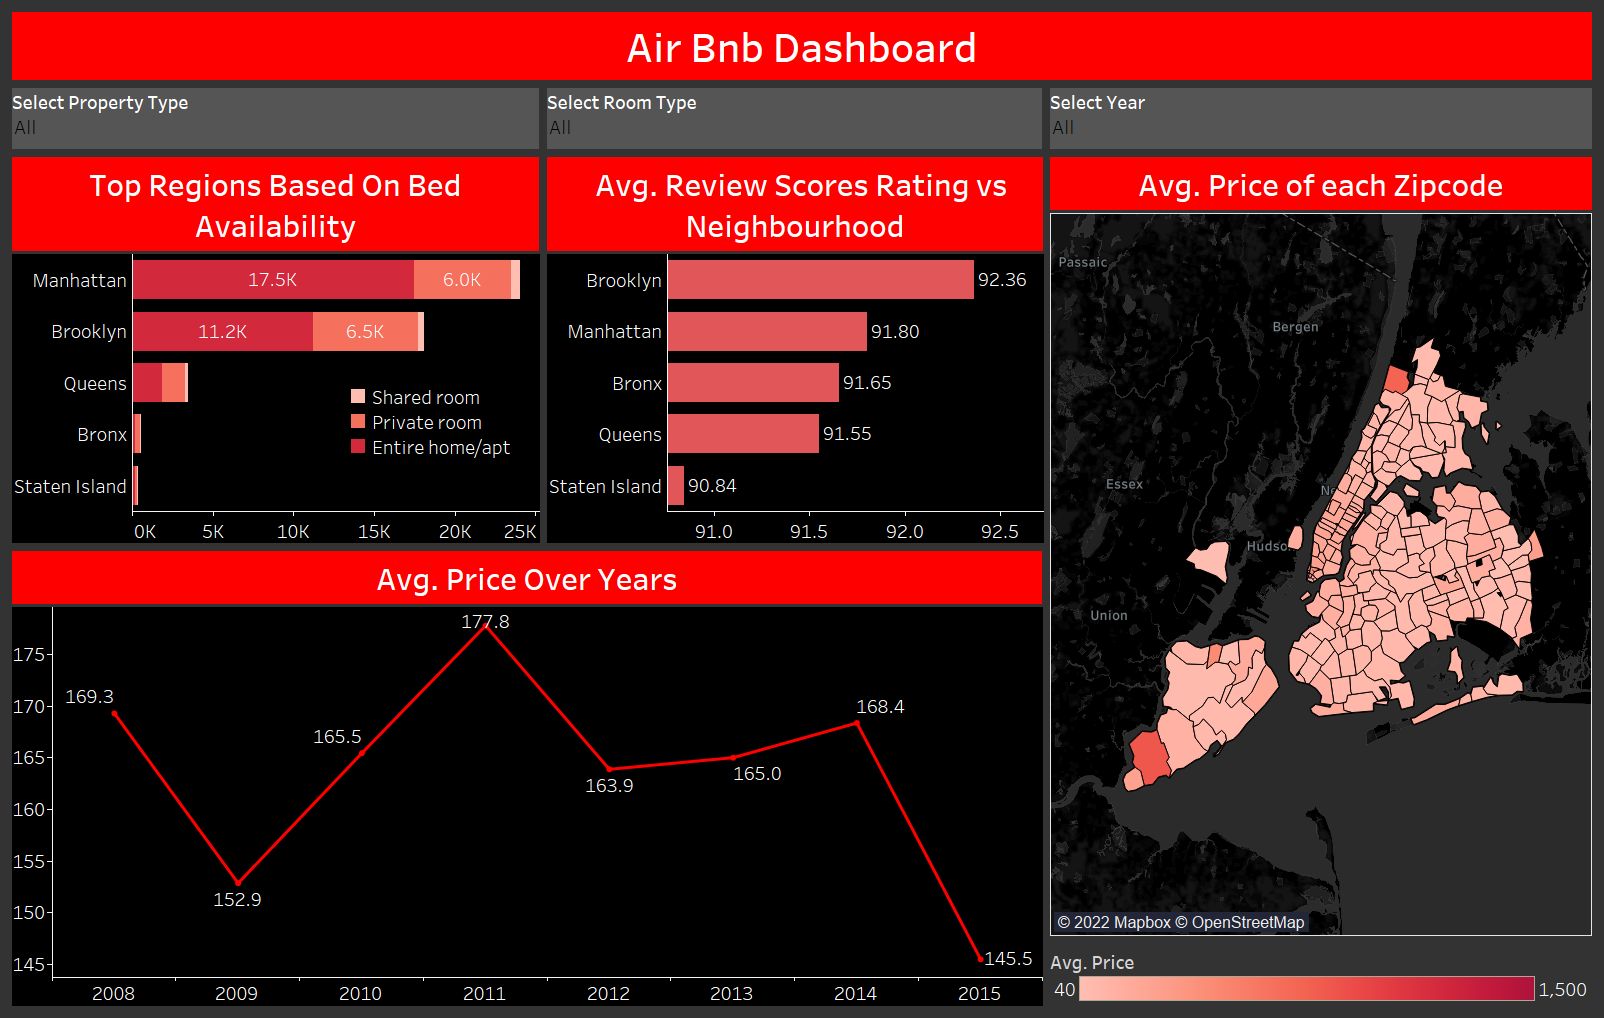

Layout of this report page (visuals, bound fields, positions):
{"tool":"tableau","page":{"name":"Dashboard 1","canvas":[1000,1000],"units":"permille","ordinal":0},"visuals":[{"type":"title","box":[5.1,7.9,989.9,74.7]},{"type":"filter","title":"Top Regions wrt Availability","param":"[federated.10hsduu0iieo7s13iq2zh0z6fuzi].[none:Property Type:nk]","box":[5.1,82.5,333.2,68]},{"type":"filter","title":"Top Rated Regions","param":"[federated.10hsduu0iieo7s13iq2zh0z6fuzi].[none:Room Type:nk]","box":[338.3,82.5,314,68]},{"type":"filter","title":"Top Rated Regions","param":"[federated.10hsduu0iieo7s13iq2zh0z6fuzi].[yr:Host Since:ok]","box":[652.3,82.5,342.6,68]},{"type":"worksheet","title":"Top Regions wrt Availability","mark":"Automatic","rows":["Neighbourhood"],"cols":["Beds"],"box":[5.1,150.5,333.2,386.7]},{"type":"worksheet","title":"Top Rated Regions","mark":"Automatic","rows":["Neighbourhood"],"cols":["Review Scores Rating"],"box":[338.3,150.5,314,386.7]},{"type":"worksheet","title":"Avg Price vs Zipcodes","mark":"Automatic","box":[652.3,150.5,342.6,773.4]},{"type":"legend","title":"Top Regions wrt Availability","param":"[federated.10hsduu0iieo7s13iq2zh0z6fuzi].[none:Room Type:nk]","box":[215.6,377.2,114.4,80.5]},{"type":"worksheet","title":"avg price over years","mark":"Automatic","rows":["Price"],"cols":["Host Since"],"box":[5.1,537.2,647.3,454.9]},{"type":"legend","title":"Avg Price vs Zipcodes","param":"[federated.10hsduu0iieo7s13iq2zh0z6fuzi].[avg:Price:qk]","box":[652.3,923.9,342.6,68.2]}]}

Visuals, with their boxes on the dashboard's canvas, which has no fixed pixel size, in thousandths of its width and height (x1, y1, x2, y2). These are canvas units, not pixel positions in the 1604x1018 screenshot, which may show the page scaled, cropped or inside an application window:
title: [left=5, top=8, right=995, bottom=83]
"Top Regions wrt Availability" filter: [left=5, top=82, right=338, bottom=150]
"Top Rated Regions" filter: [left=338, top=82, right=652, bottom=150]
"Top Rated Regions" filter: [left=652, top=82, right=995, bottom=150]
"Top Regions wrt Availability" worksheet: [left=5, top=150, right=338, bottom=537]
"Top Rated Regions" worksheet: [left=338, top=150, right=652, bottom=537]
"Avg Price vs Zipcodes" worksheet: [left=652, top=150, right=995, bottom=924]
"Top Regions wrt Availability" legend: [left=216, top=377, right=330, bottom=458]
"avg price over years" worksheet: [left=5, top=537, right=652, bottom=992]
"Avg Price vs Zipcodes" legend: [left=652, top=924, right=995, bottom=992]
